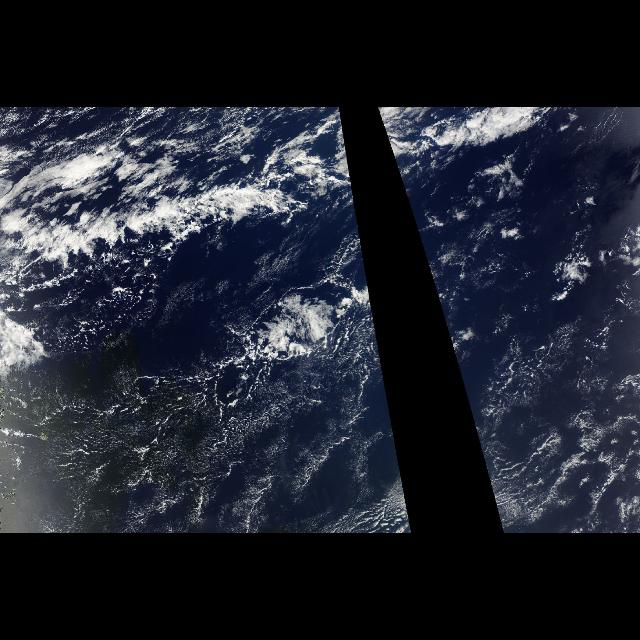Fish: (10, 196, 332, 264)
Sugar: (10, 385, 412, 533), (461, 385, 637, 533)
